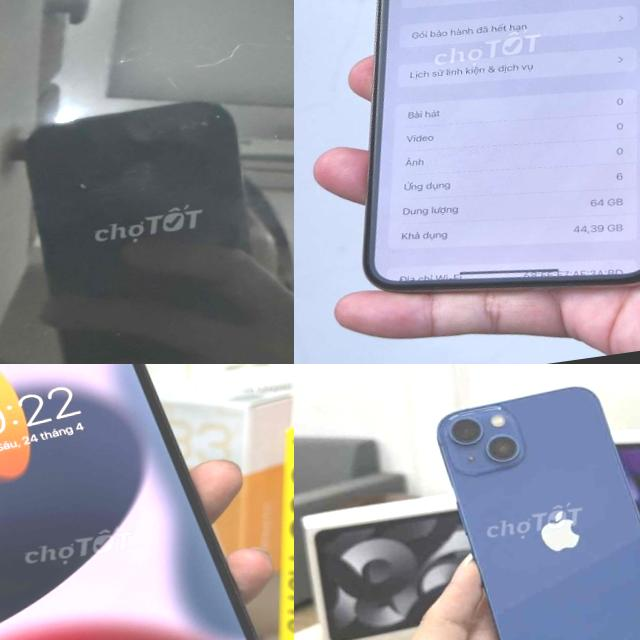gen_12_13: (0, 364, 291, 640), (428, 373, 640, 640)
gen_14: (0, 0, 294, 364)
gen_x_xs: (294, 0, 640, 364)
